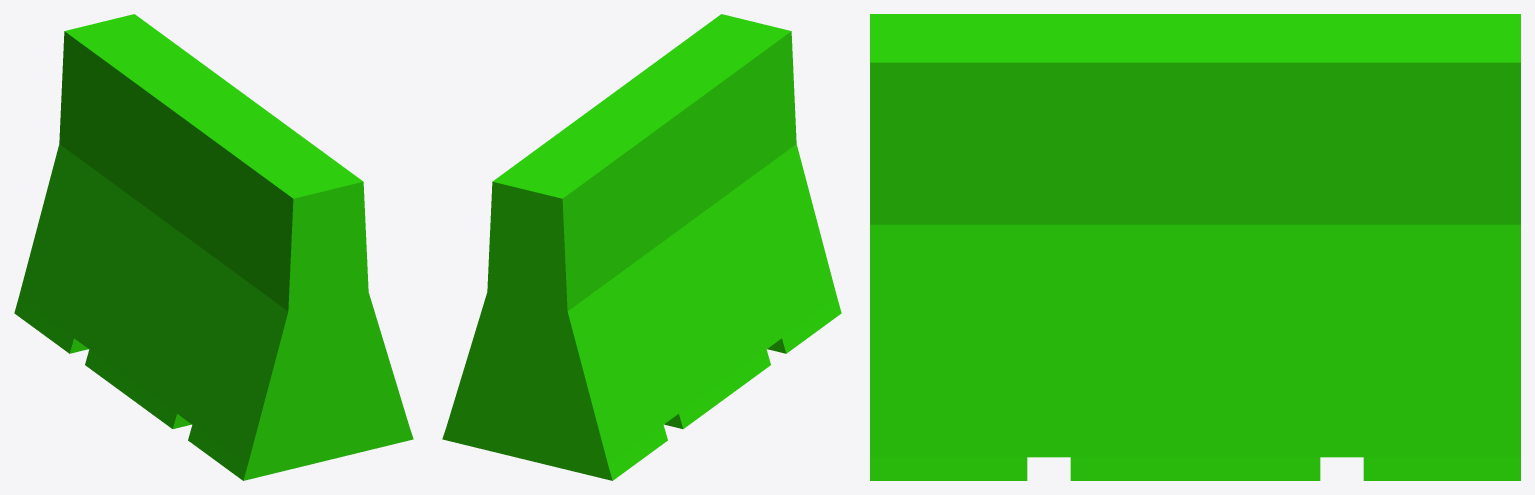
File: Road_Blocker_01_Lod0.fbx
3 renders of one model, left to right at view 1: azimuth 30°, elevation 25°; view 2: azimuth 150°, elevation 25°; view 3: azimuth 270°, elevation 25°, orthographic. The views are drawn at different scales.
Parts seen in each view (by area): view 1: Road_Blocker_01_Lod0; view 2: Road_Blocker_01_Lod0; view 3: Road_Blocker_01_Lod0.
Boxes of the visible parts, x1=… form: Road_Blocker_01_Lod0: x1=14, y1=14, x2=413, y2=480; Road_Blocker_01_Lod0: x1=442, y1=14, x2=841, y2=480; Road_Blocker_01_Lod0: x1=870, y1=14, x2=1520, y2=480.
Size of the model in its own units: 51.04 by 77.28 by 119.
